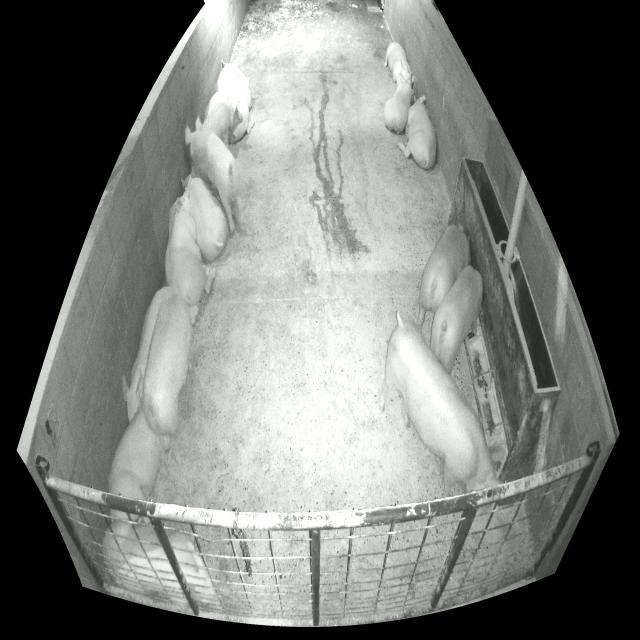pig: (379, 311, 503, 497), (103, 519, 215, 609), (142, 295, 198, 438), (122, 286, 174, 423), (185, 116, 240, 235), (430, 266, 483, 374), (418, 224, 470, 332), (164, 187, 208, 303), (109, 405, 161, 500), (181, 167, 228, 261), (216, 60, 255, 143), (397, 95, 436, 169), (203, 91, 243, 149), (384, 72, 414, 133), (384, 42, 411, 86), (204, 92, 228, 121)
